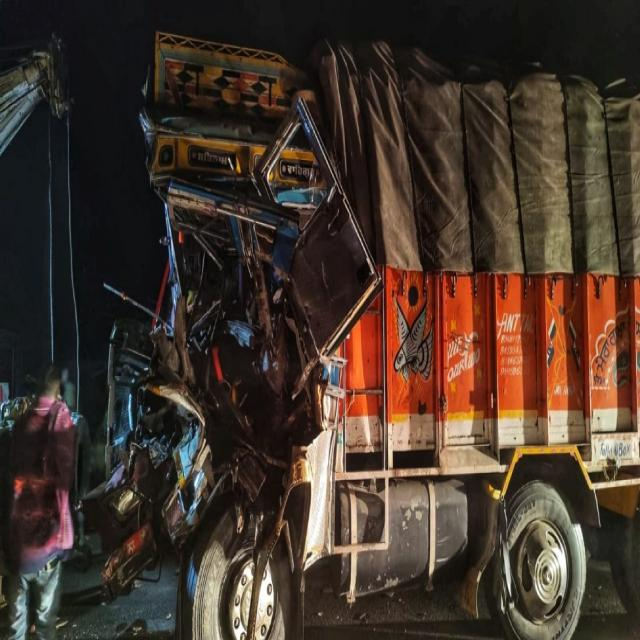accident: (88, 31, 640, 638)
